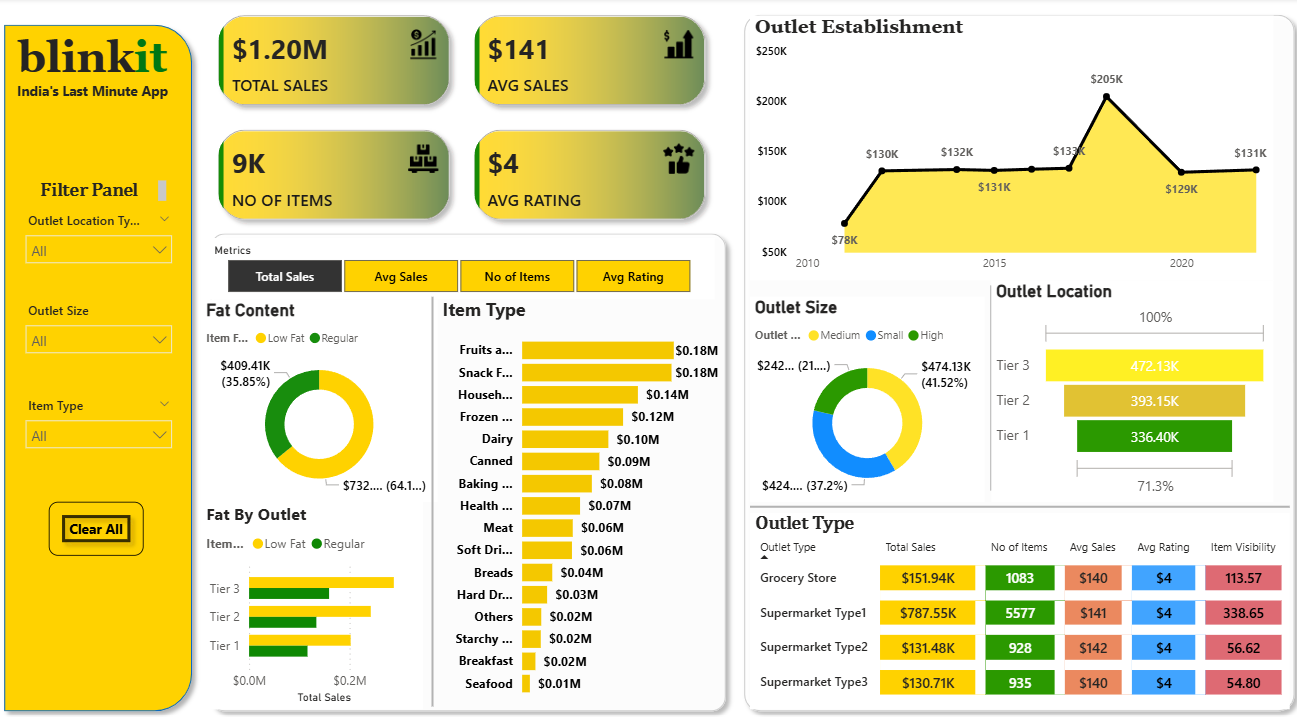

The dashboard page shown, as its layout file describes it:
{"tool":"powerbi","page":{"name":"Page 1","canvas":[1280,720],"ordinal":0},"visuals":[{"type":"shape","box":[0,17.1,201.8,689.7],"z":0},{"type":"textbox","box":[0,28.1,190.8,79.5],"z":1000},{"type":"cardVisual","fields":{"Data":["BlinkIT Grocery Data.Total Sales","BlinkIT Grocery Data.Avg Sales","BlinkIT Grocery Data.No of Items","BlinkIT Grocery Data.Avg Rating"]},"box":[201.8,0,511.1,234.8],"z":2000},{"type":"shape","box":[201.8,221.3,522.1,485.5],"z":3000},{"type":"donutChart","title":" Fat Content","fields":{"Y":["BlinkIT Grocery Data.Total Sales"],"Category":["BlinkIT Grocery Data.Item Fat Content"]},"box":[201.8,294.7,231.1,198.1],"z":4000},{"type":"slicer","fields":{"Values":["Metrics.Metrics"]},"box":[201.8,234.8,502.6,59.9],"z":5000},{"type":"clusteredBarChart","title":"Fat By Outlet","fields":{"Y":["BlinkIT Grocery Data.Total Sales"],"Category":["BlinkIT Grocery Data.Outlet Location Type"],"Series":["BlinkIT Grocery Data.Item Fat Content"]},"box":[201.8,492.8,216.4,203],"z":6000},{"type":"barChart","title":"Item Type","fields":{"Y":["BlinkIT Grocery Data.Total Sales"],"Category":["BlinkIT Grocery Data.Item Type"]},"box":[432.9,292.3,280,401.1],"z":7000},{"type":"shape","box":[418.2,292.3,19.6,401.1],"z":8000},{"type":"shape","box":[723.9,7.3,556.4,699.5],"z":9000},{"type":"lineChart","title":" Outlet Establishment","fields":{"Y":["BlinkIT Grocery Data.Total Sales"],"Category":["BlinkIT Grocery Data.Outlet Establishment Year"]},"box":[738.6,17.1,512.4,259.2],"z":10000},{"type":"donutChart","title":"Outlet Size","fields":{"Category":["BlinkIT Grocery Data.Outlet Size"],"Y":["BlinkIT Grocery Data.Total Sales"]},"box":[738.6,292.3,229.9,200.5],"z":11000},{"type":"shape","box":[968.5,281.3,12.2,200.5],"z":12000},{"type":"funnel","title":"Outlet Location","fields":{"Y":["Sum(BlinkIT Grocery Data.Sales)"],"Category":["BlinkIT Grocery Data.Outlet Location Type"]},"box":[974.6,276.4,276.4,216.4],"z":13000},{"type":"pivotTable","title":"Outlet Type","fields":{"Rows":["BlinkIT Grocery Data.Outlet Type"],"Values":["BlinkIT Grocery Data.Total Sales","BlinkIT Grocery Data.No of Items","BlinkIT Grocery Data.Avg Sales","BlinkIT Grocery Data.Avg Rating","Sum(BlinkIT Grocery Data.Item Visibility)"]},"box":[738.6,503.8,528.3,192],"z":14000},{"type":"shape","box":[738.6,491.6,528.3,12.2],"z":15000},{"type":"slicer","fields":{"Values":["BlinkIT Grocery Data.Outlet Location Type"]},"box":[19.6,204.2,163.9,61.1],"z":16000},{"type":"slicer","fields":{"Values":["BlinkIT Grocery Data.Outlet Size"]},"box":[19.6,292.3,163.9,61.1],"z":17000},{"type":"slicer","fields":{"Values":["BlinkIT Grocery Data.Item Type"]},"box":[19.6,385.2,163.9,61.1],"z":18000},{"type":"textbox","box":[19.6,173.6,152.9,30.6],"z":19000},{"type":"actionButton","box":[52.6,492.8,92.9,52.6],"z":20000}]}

Visuals, with their boxes in screenshot pixels (x1, y1, x2, y2), scaled from the page's 1280x720 canvas onto the 1297x717 screenshot:
shape: select_region(0, 17, 204, 704)
textbox: select_region(0, 28, 193, 107)
cardVisual - BlinkIT Grocery Data.Total Sales x BlinkIT Grocery Data.Avg Sales: select_region(204, 0, 722, 234)
shape: select_region(204, 220, 734, 704)
" Fat Content" donutChart: select_region(204, 293, 439, 491)
slicer - Metrics.Metrics: select_region(204, 234, 714, 293)
"Fat By Outlet" clusteredBarChart: select_region(204, 491, 424, 693)
"Item Type" barChart: select_region(439, 291, 722, 691)
shape: select_region(424, 291, 444, 691)
shape: select_region(734, 7, 1296, 704)
" Outlet Establishment" lineChart: select_region(748, 17, 1268, 275)
"Outlet Size" donutChart: select_region(748, 291, 981, 491)
shape: select_region(981, 280, 994, 480)
"Outlet Location" funnel: select_region(988, 275, 1268, 491)
"Outlet Type" pivotTable: select_region(748, 502, 1284, 693)
shape: select_region(748, 490, 1284, 502)
slicer - BlinkIT Grocery Data.Outlet Location Type: select_region(20, 203, 186, 264)
slicer - BlinkIT Grocery Data.Outlet Size: select_region(20, 291, 186, 352)
slicer - BlinkIT Grocery Data.Item Type: select_region(20, 384, 186, 444)
textbox: select_region(20, 173, 175, 203)
actionButton: select_region(53, 491, 147, 543)
